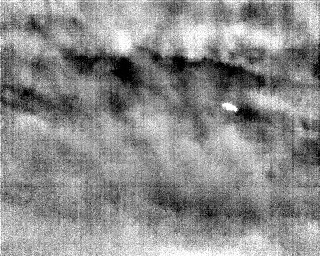BIRD: (219, 99, 241, 116)
